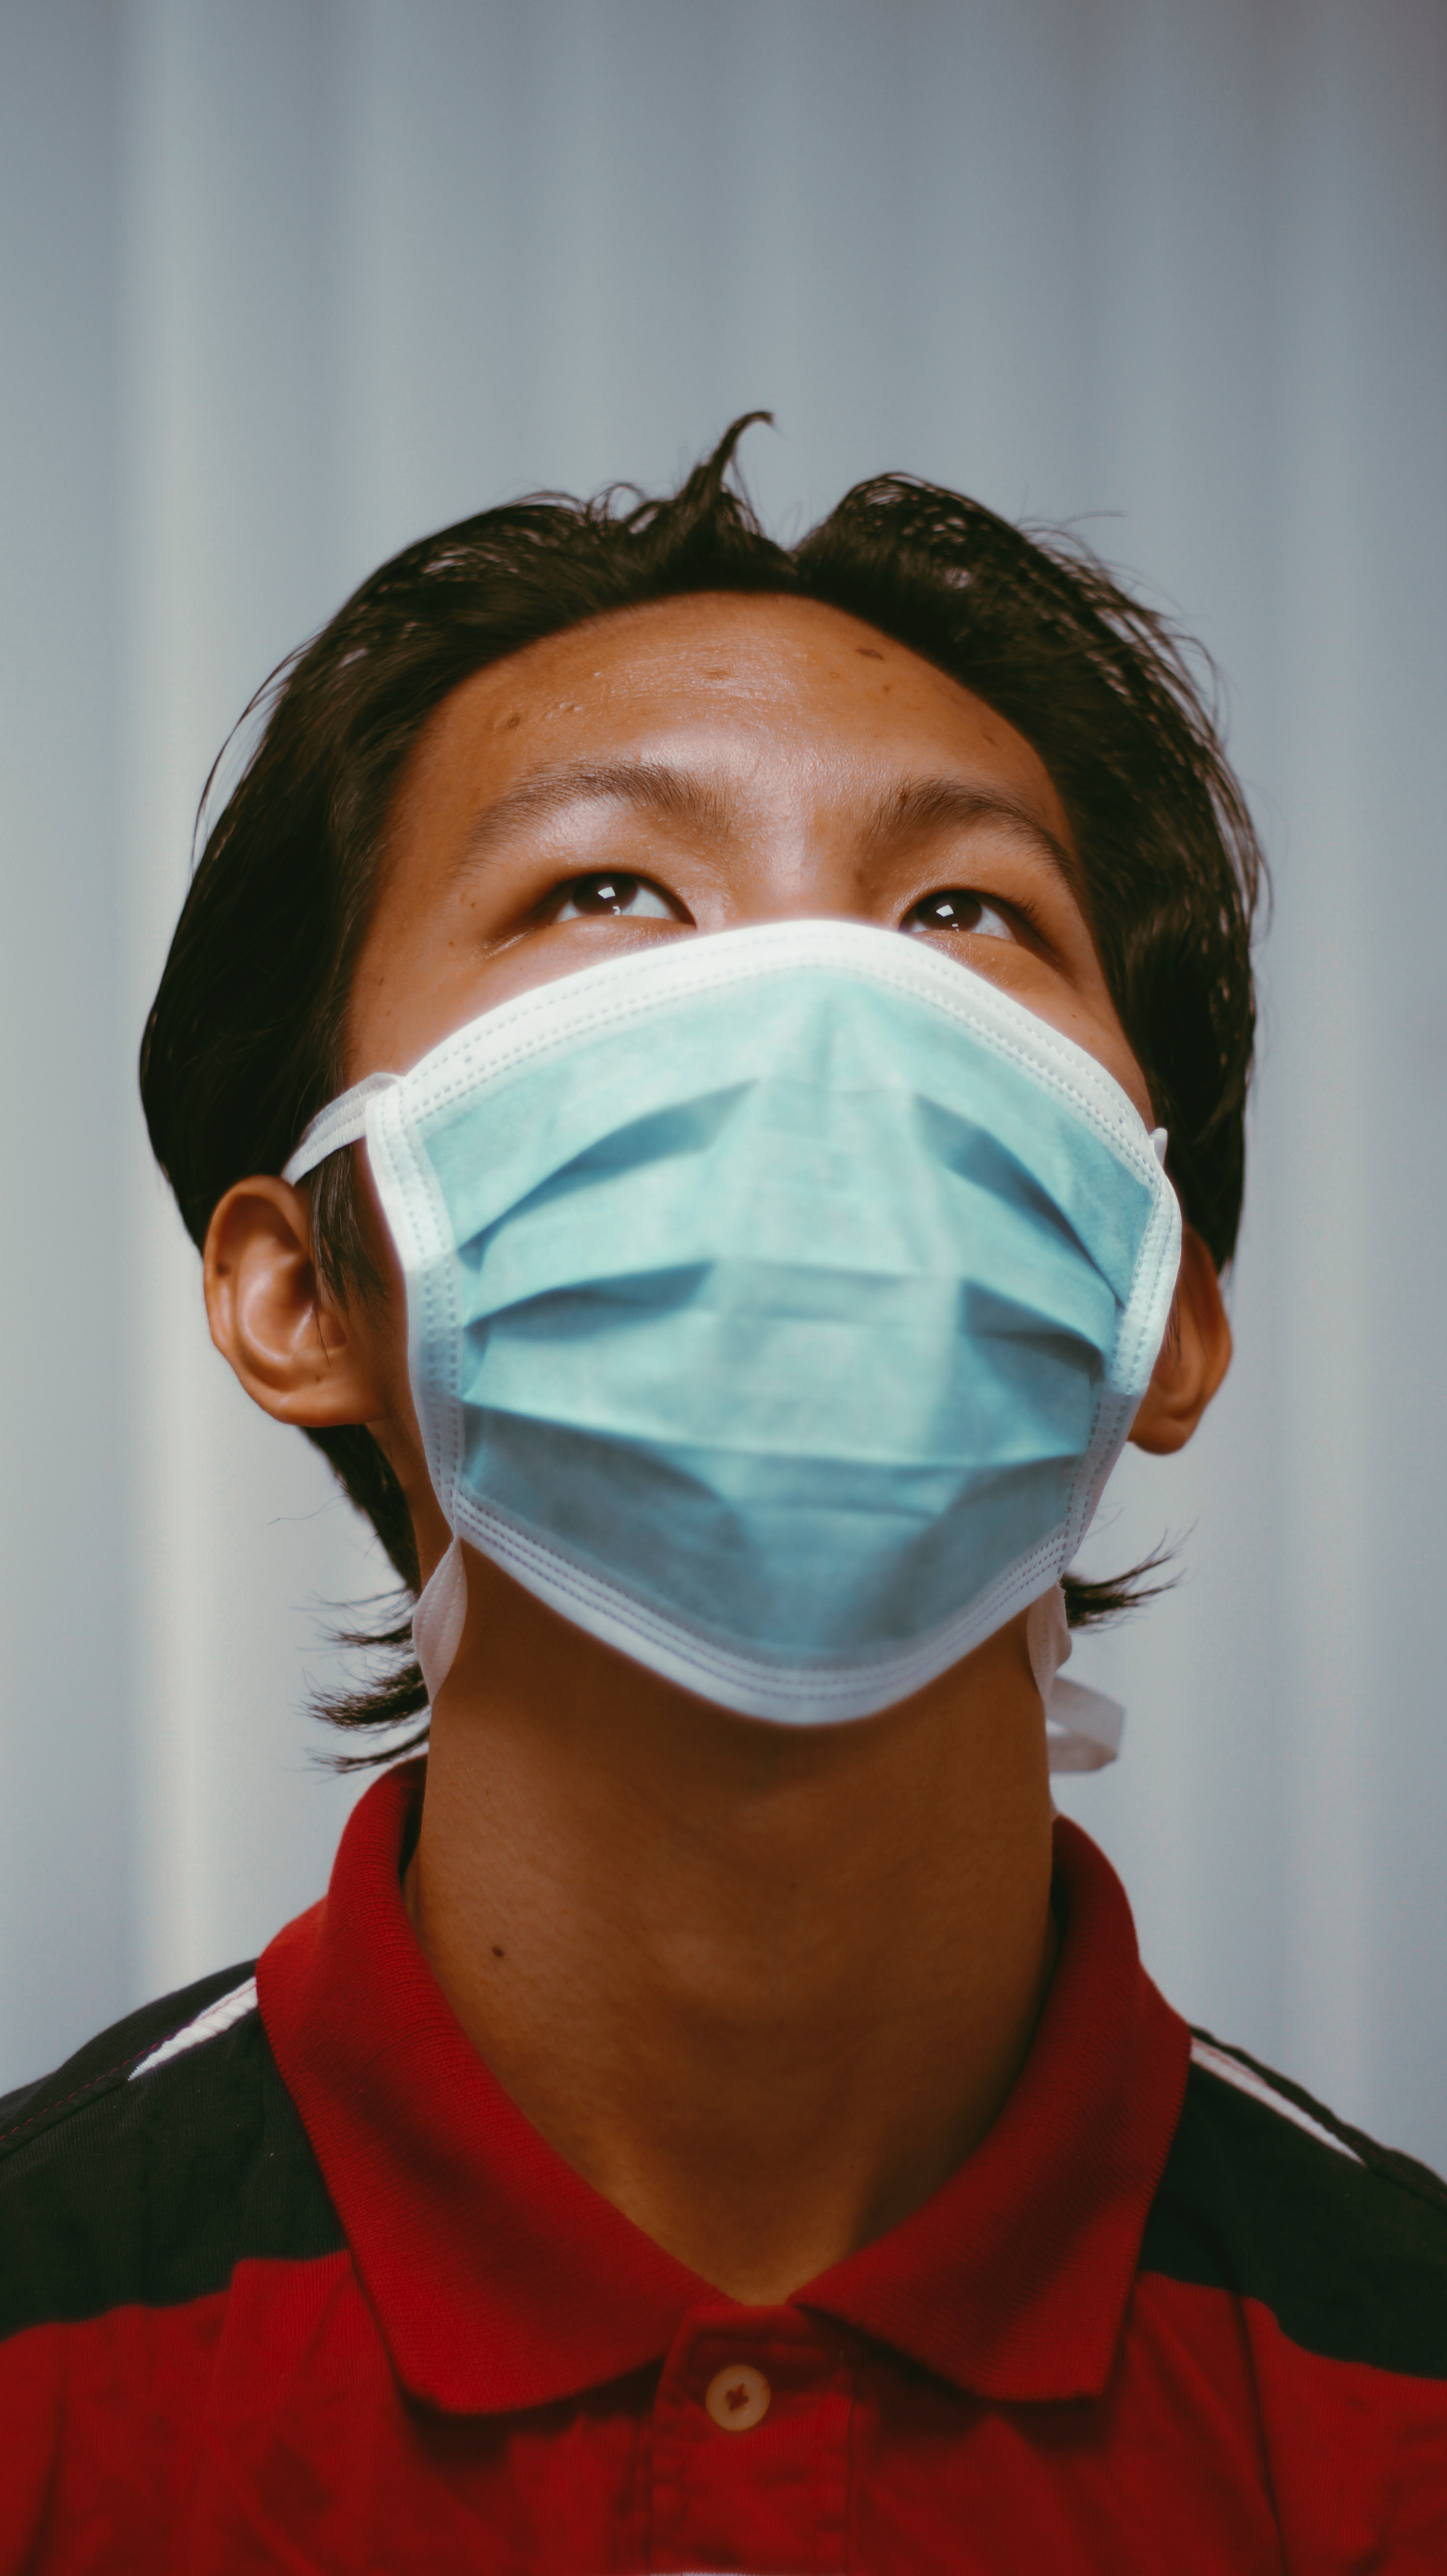mask: (319, 932, 1169, 1685)
person: (21, 463, 1447, 2576)
